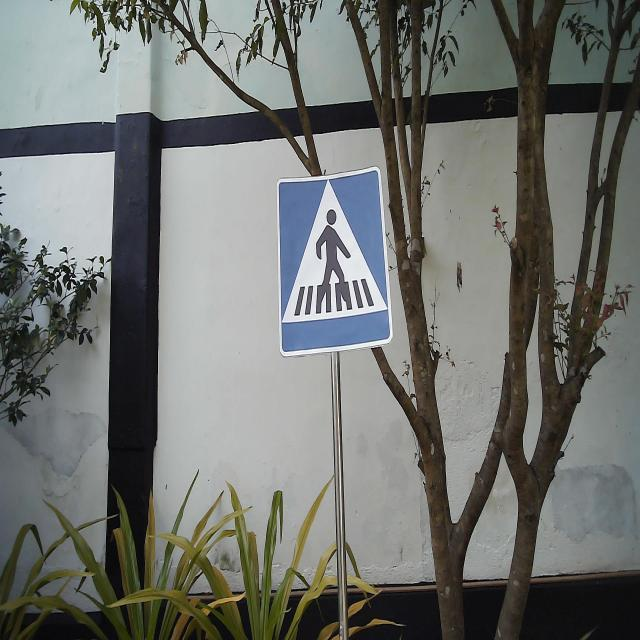crosswalk_sign: (275, 164, 395, 358)
